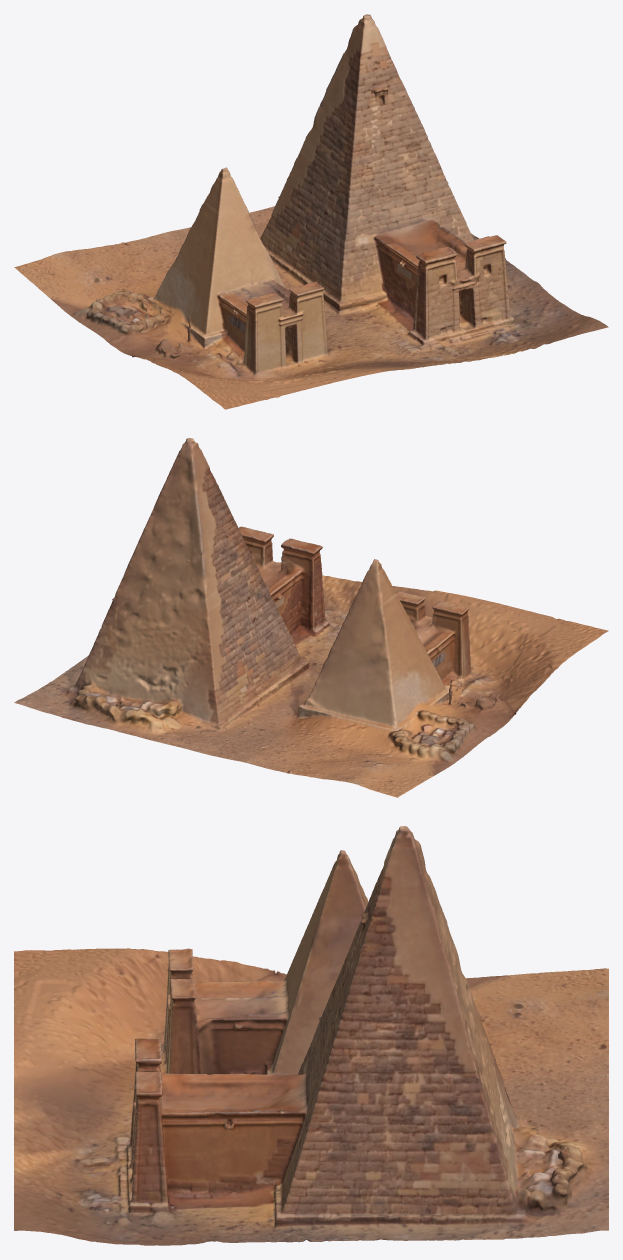
The picture shows the model from 3 angles, top to bottom: view 1: azimuth 30°, elevation 25°; view 2: azimuth 150°, elevation 25°; view 3: azimuth 270°, elevation 25°; orthographic projection. The views are drawn at different scales.
Parts seen in each view (by area): view 1: SDN_001_M2_N19-32_LP; view 2: SDN_001_M2_N19-32_LP; view 3: SDN_001_M2_N19-32_LP.
Part boxes in pixels (x1,y1,x2,y2): SDN_001_M2_N19-32_LP: (14, 14, 608, 409); SDN_001_M2_N19-32_LP: (14, 438, 608, 797); SDN_001_M2_N19-32_LP: (14, 826, 608, 1245).
Size of the model in its own units: 18.79 by 11.8 by 17.91.
1 material, 1 textured.
